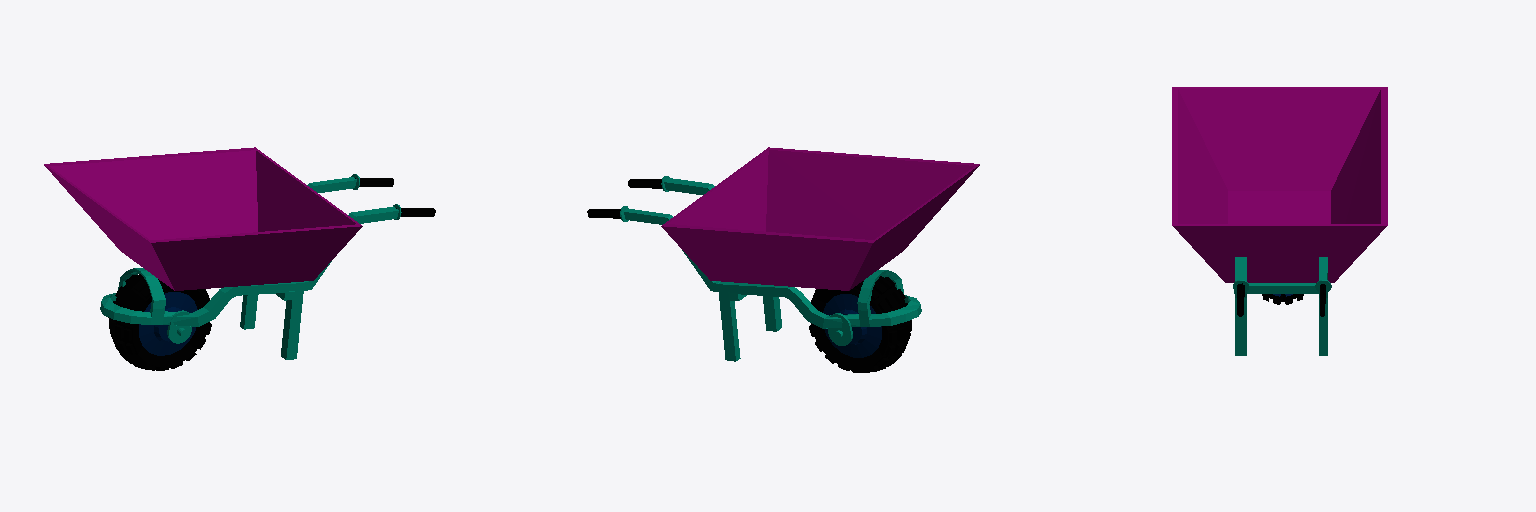
Rendered from asli.obj.
3 renders of one model, left to right at view 1: azimuth 30°, elevation 25°; view 2: azimuth 150°, elevation 25°; view 3: azimuth 270°, elevation 25°, orthographic.
Visible parts, largest first — view 1: ???, ???????, ????; view 2: ???, ???????, ????; view 3: ???, ???????, ????.
Part boxes in pixels (x1,y1,x2,y2): ???: (44, 147, 362, 290); ???????: (100, 174, 401, 359); ????: (108, 178, 435, 370); ???: (661, 147, 979, 290); ???????: (620, 176, 921, 361); ????: (587, 179, 911, 372); ???: (1172, 87, 1387, 282); ???????: (1233, 257, 1331, 355); ????: (1237, 283, 1325, 316).
Bounding box in the file's own units: 74.39 × 40.82 × 43.63.